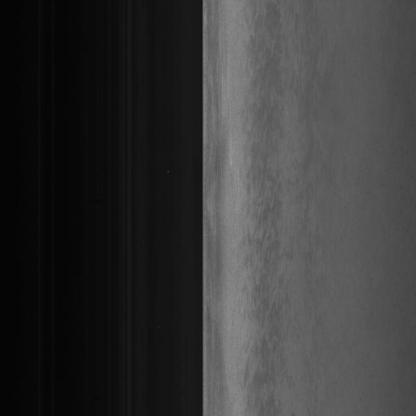silk_spot: (233, 85, 292, 379)
